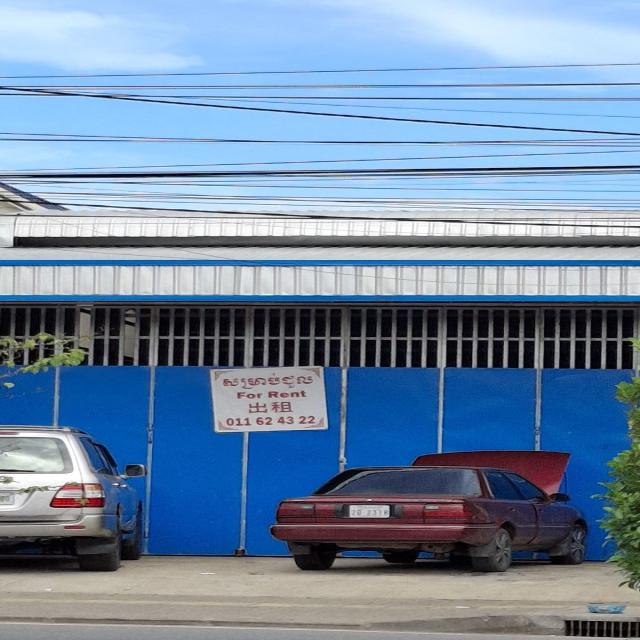Yolov11_80vkh: (211, 368, 325, 390)
